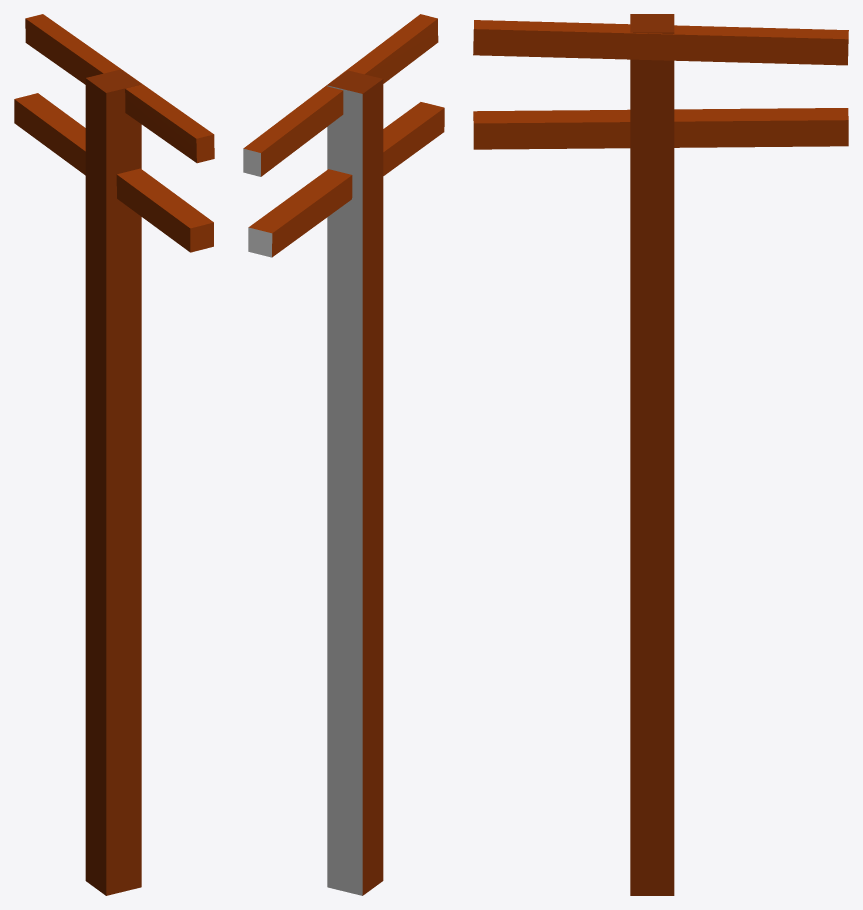
Rendered from Pylon.fbx.
The picture shows the model from 3 angles, left to right: view 1: azimuth 30°, elevation 25°; view 2: azimuth 150°, elevation 25°; view 3: azimuth 270°, elevation 25°; orthographic projection. The views are drawn at different scales.
Parts seen in each view (by area): view 1: Cube.001; view 2: Cube.001; view 3: Cube.001.
Part boxes in pixels (x1,y1,x2,y2): Cube.001: (14, 14, 214, 895); Cube.001: (243, 14, 444, 895); Cube.001: (473, 14, 848, 895).
Bounding box in the file's own units: 0.5579 × 11.11 × 4.36.
